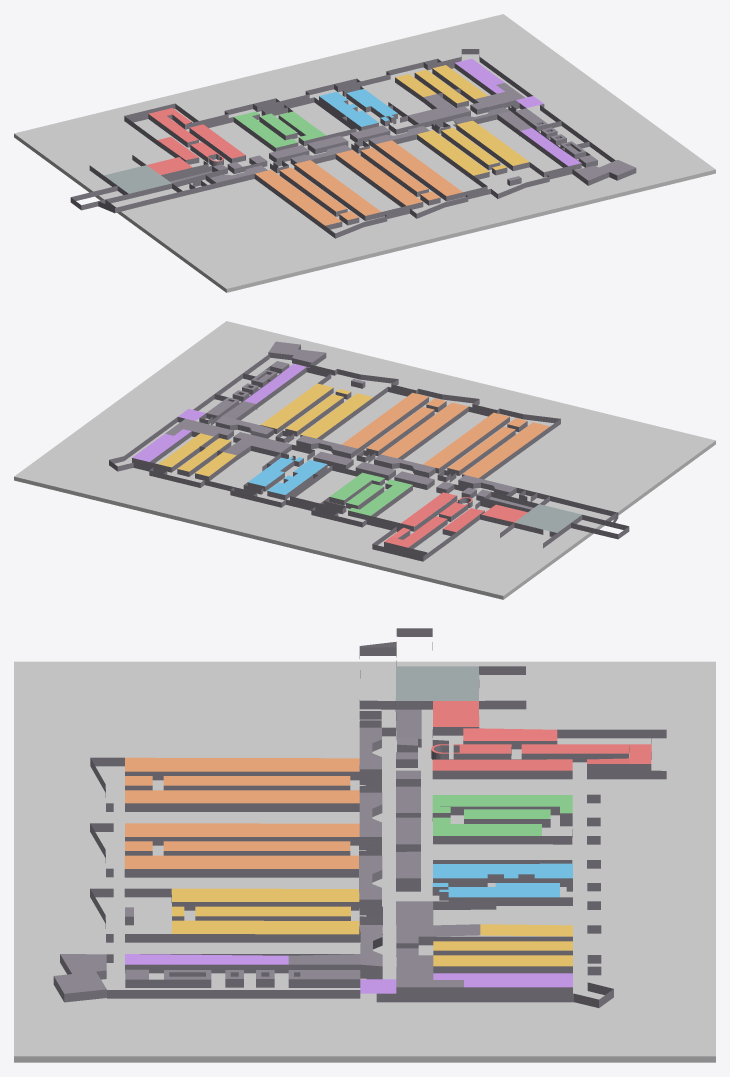
Rendered from DalalJam.glb.
3 views of the same model, one above another, from view 1: azimuth 30°, elevation 25°; view 2: azimuth 150°, elevation 25°; view 3: azimuth 270°, elevation 25° (orthographic). The views are drawn at different scales.
Visible parts, largest first — view 1: Surface Sol, planHop; view 2: Surface Sol, planHop; view 3: Surface Sol, planHop.
Part boxes in pixels (bbox=[...]): Surface Sol: bbox=[14, 14, 715, 292]; planHop: bbox=[70, 49, 636, 238]; Surface Sol: bbox=[14, 321, 715, 599]; planHop: bbox=[109, 341, 629, 561]; Surface Sol: bbox=[14, 661, 715, 1062]; planHop: bbox=[53, 628, 666, 1007].
Size of what is drawn, in the model's own units: 208 by 4.26 by 148.
